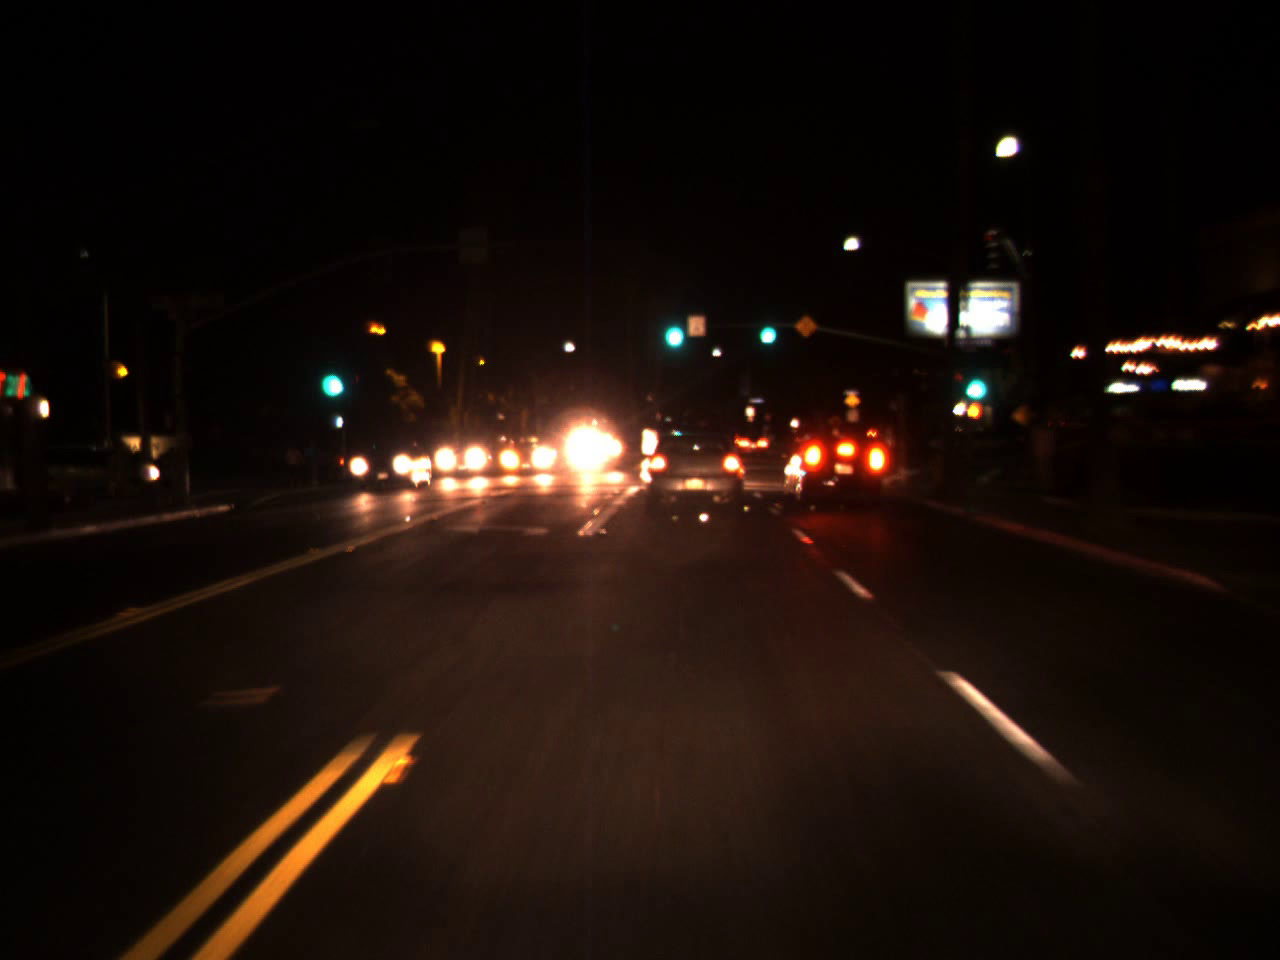go: (314, 346, 346, 406), (957, 355, 991, 406), (657, 301, 687, 355), (755, 310, 780, 346)
